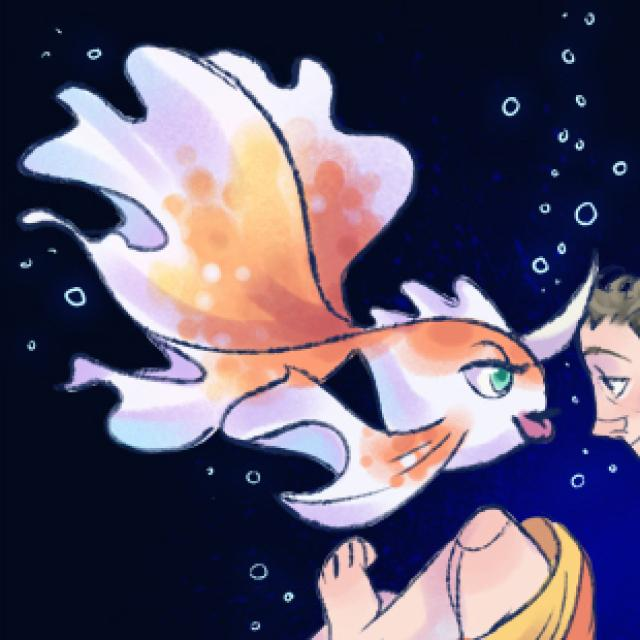Goldeen: (175, 278, 570, 524)
